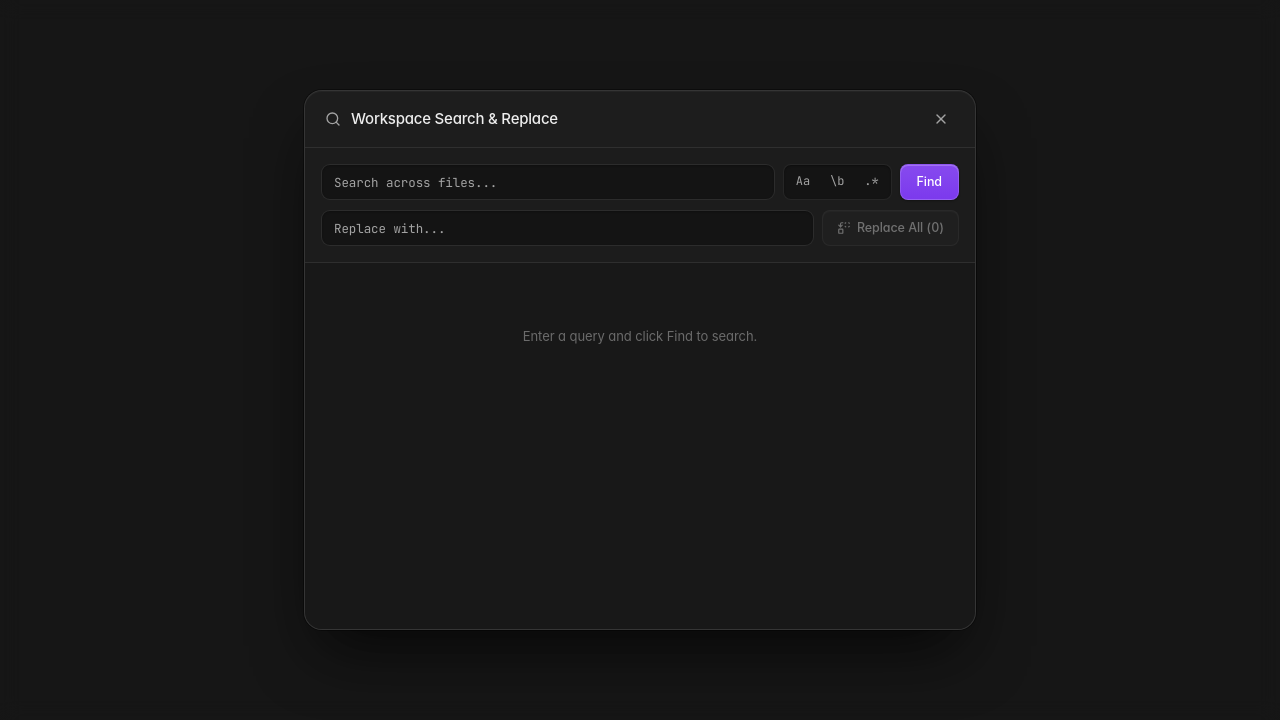
Test case: Workspace Modals & Full WorkspacePage Feature/Button Interactions › SearchReplaceModal Find, Toggles, Collapse, Jump & Batch Replace › searches with modifiers, collapses file results, jumps to match, and executes Replace All
Later steps or results of the test are not shown.
// Toggle Case Sensitive (Aa) and Whole Word (\b)
Click the button with aria-label "Match Case".
click(803, 182)  # box [786, 167, 820, 197]
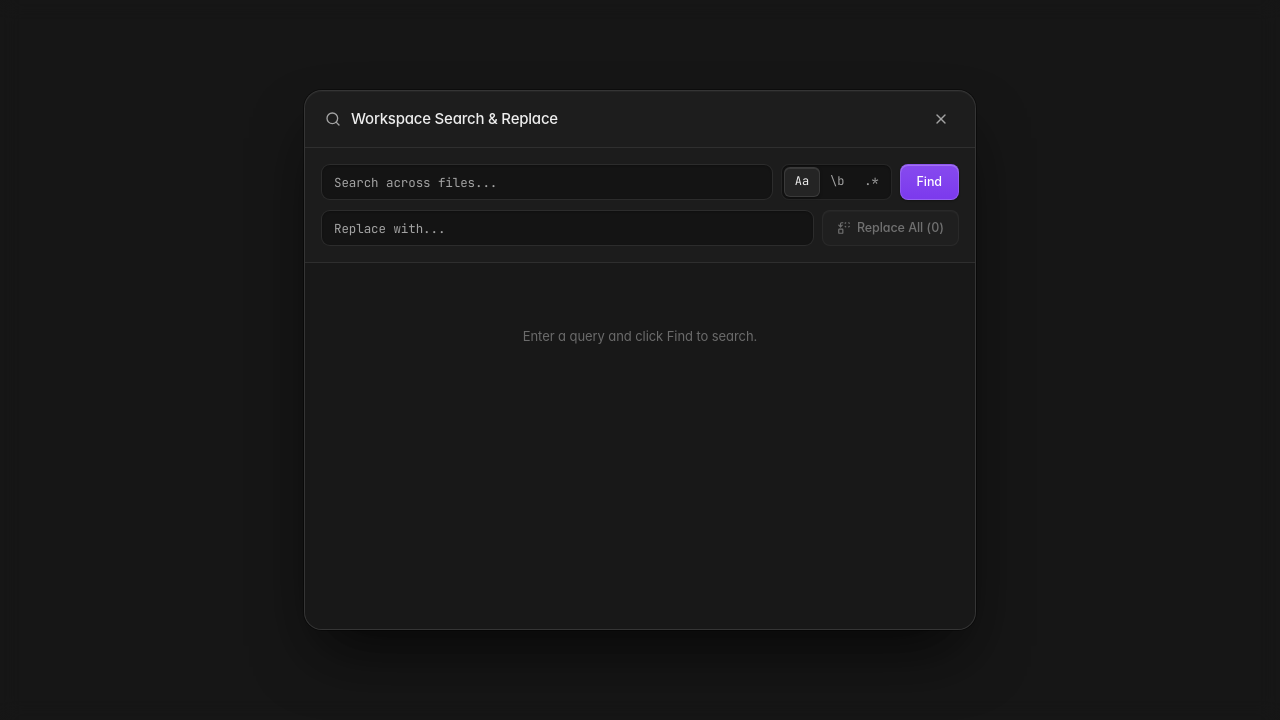
Click the button named "Match Whole Word".
click(837, 182)  # box [820, 167, 854, 197]
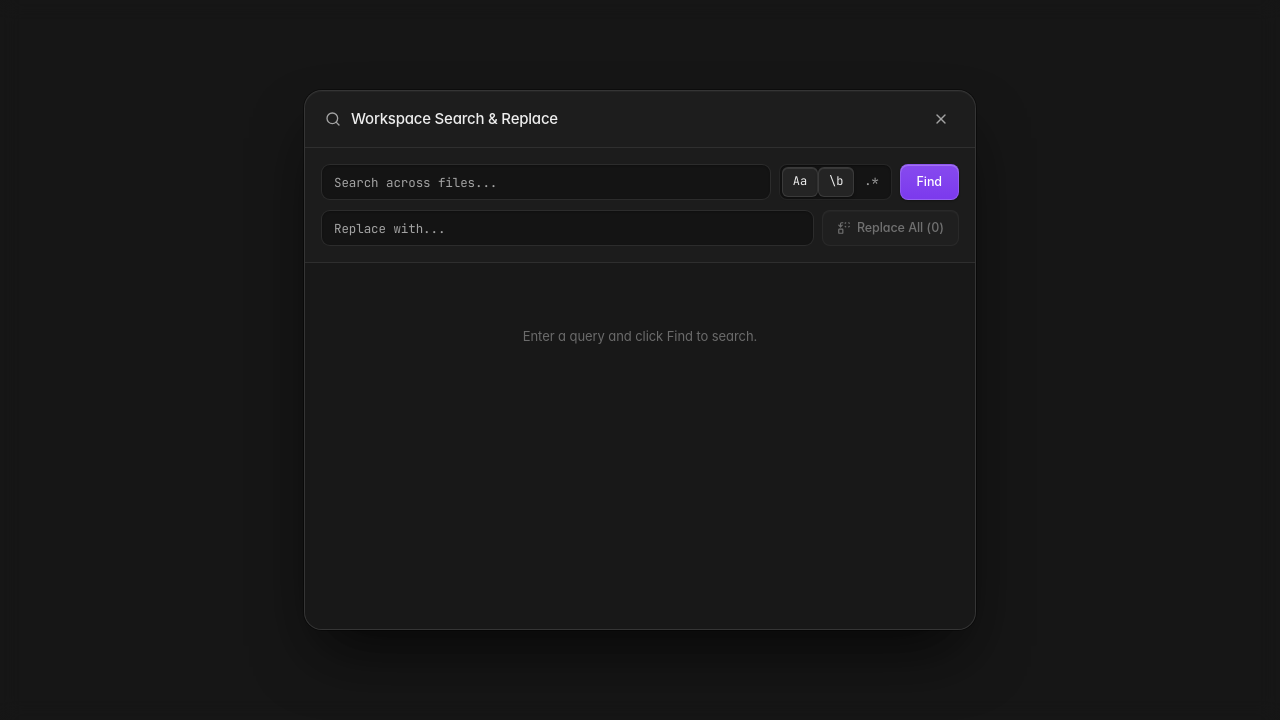
Check: the button with aria-label "Match Case" is pressed, box [782, 167, 818, 197]
Check: the button named "Match Whole Word" is pressed, box [818, 167, 854, 197]
Type "foo" into the field labelled "Search across files".
click(546, 182); type("foo")  # box [321, 164, 771, 200]
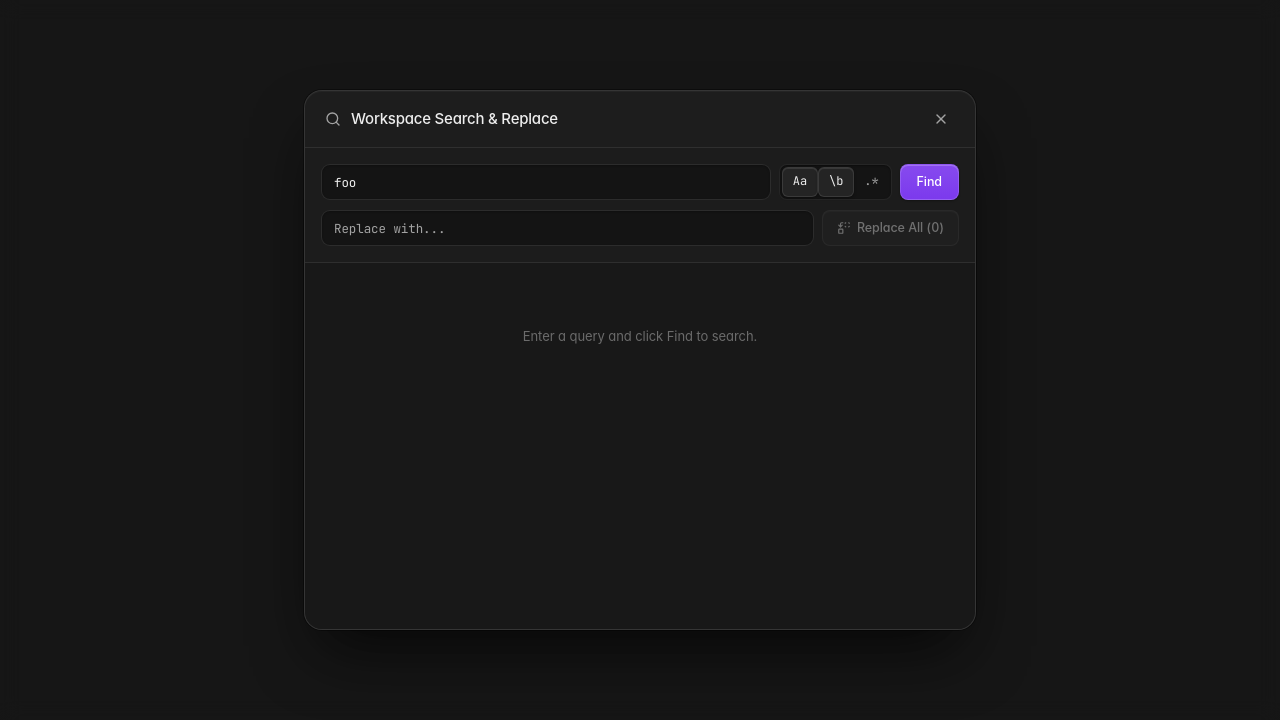
Click the button "Find".
click(929, 182)  # box [900, 164, 959, 200]
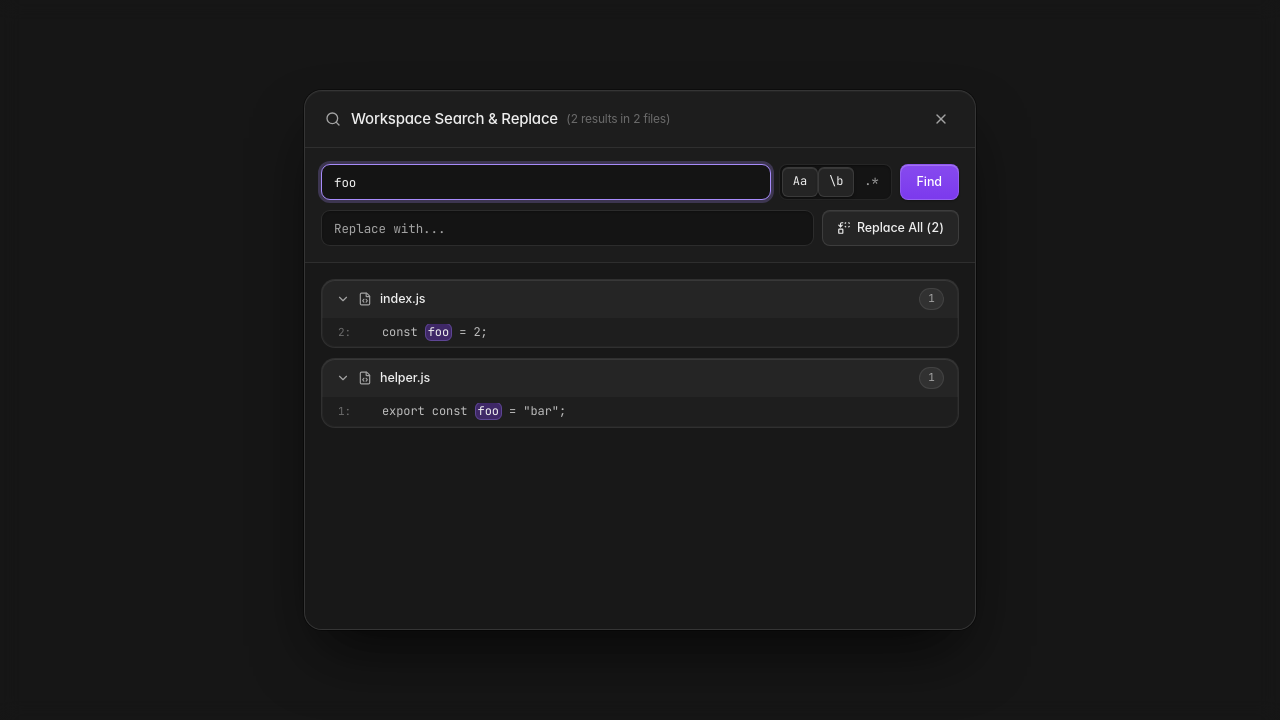
Check: the text "Replace All (2)" is shown, box [857, 220, 944, 236]
// Collapse & expand index.js group
Click the button "index.js 1".
click(403, 298)  # box [322, 280, 958, 318]
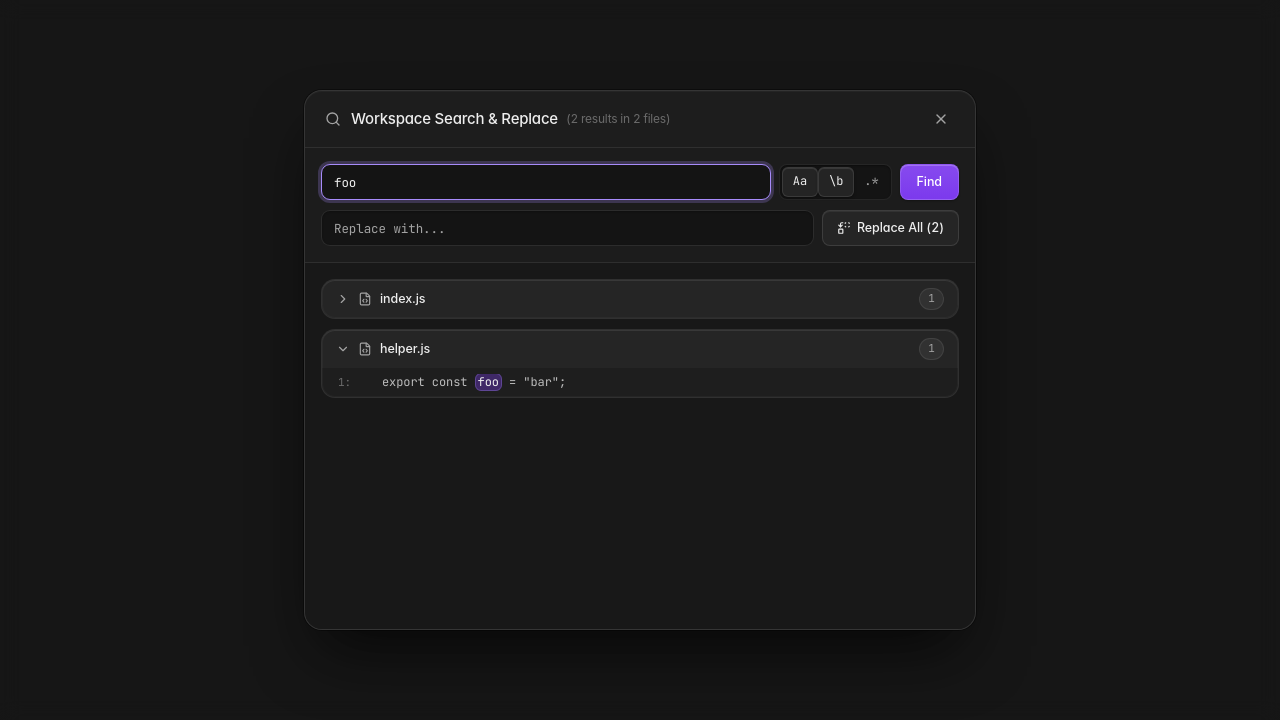
Check: the button "index.js 1" is collapsed
Click the button "index.js 1".
click(403, 298)  # box [322, 280, 958, 318]
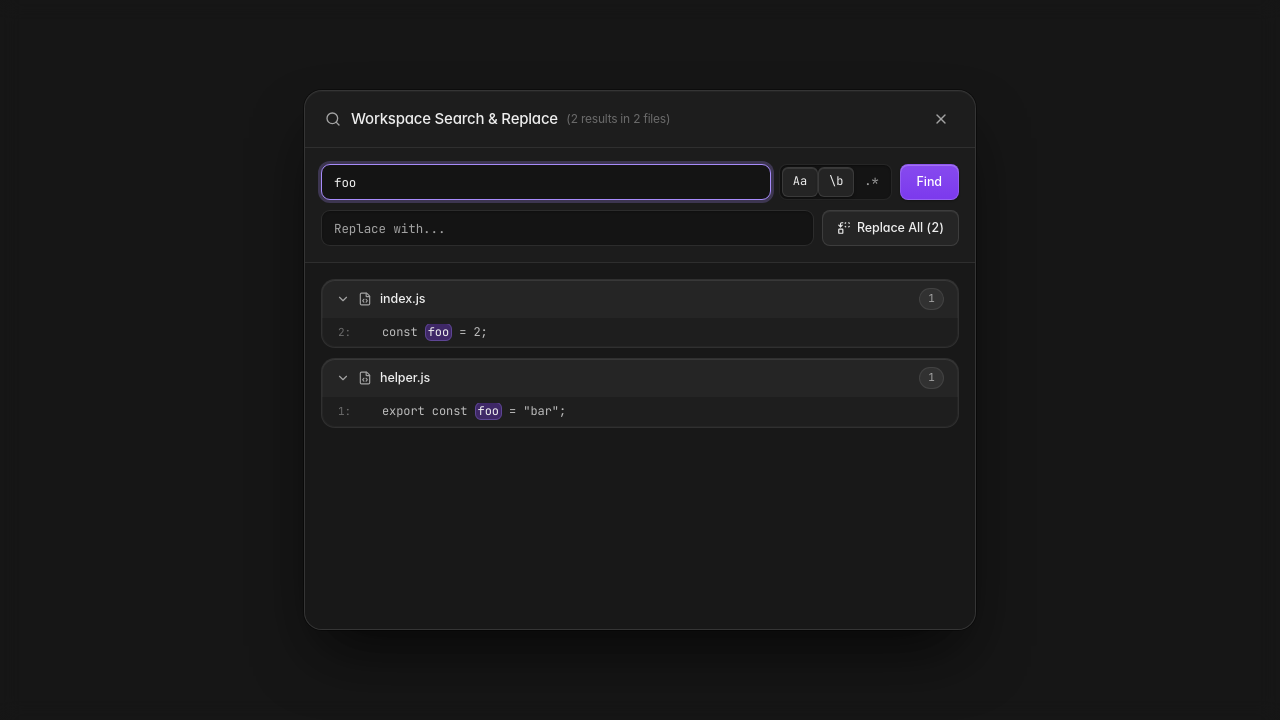
Check: the button "index.js 1" is expanded, box [322, 280, 958, 318]
